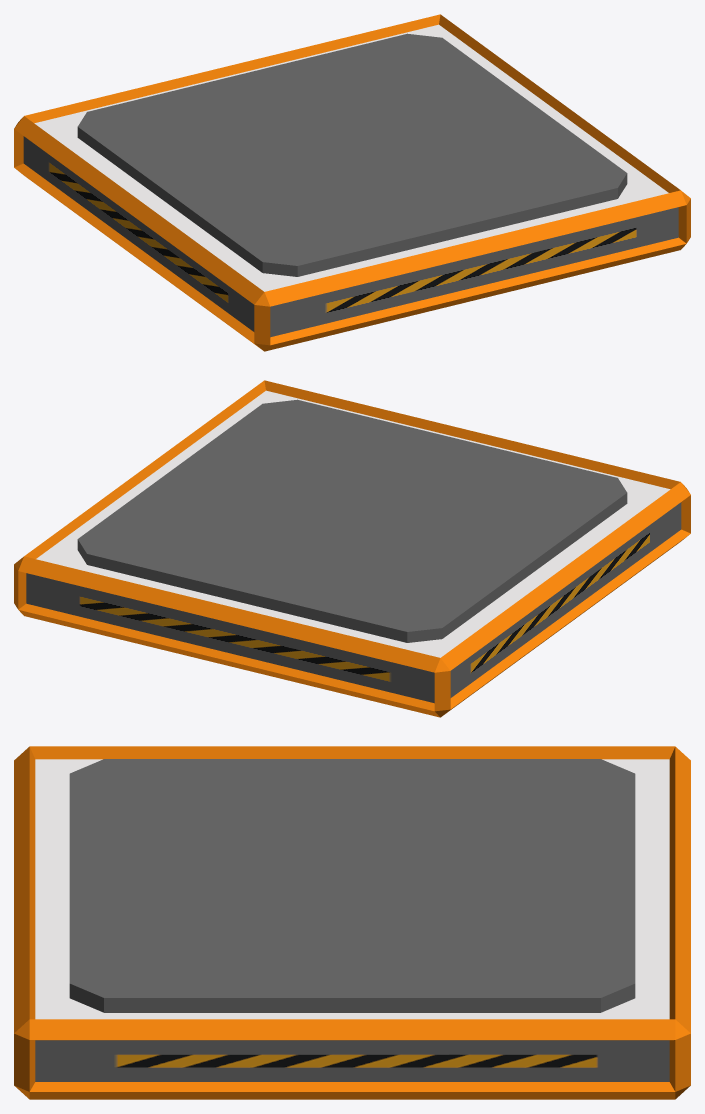
Rendered from PLATFORM.fbx.
3 views of the same model, one above another, from view 1: azimuth 30°, elevation 25°; view 2: azimuth 150°, elevation 25°; view 3: azimuth 270°, elevation 25° (orthographic). The views are drawn at different scales.
Visible parts, largest first — view 1: pCube3; view 2: pCube3; view 3: pCube3.
Part boxes in pixels (box(x1,y1,x2,y2)): pCube3: box(14, 14, 690, 351); pCube3: box(14, 380, 690, 717); pCube3: box(14, 746, 690, 1099).
Size of the model in its own units: 207 by 28.54 by 207.
1 material, 1 textured.
